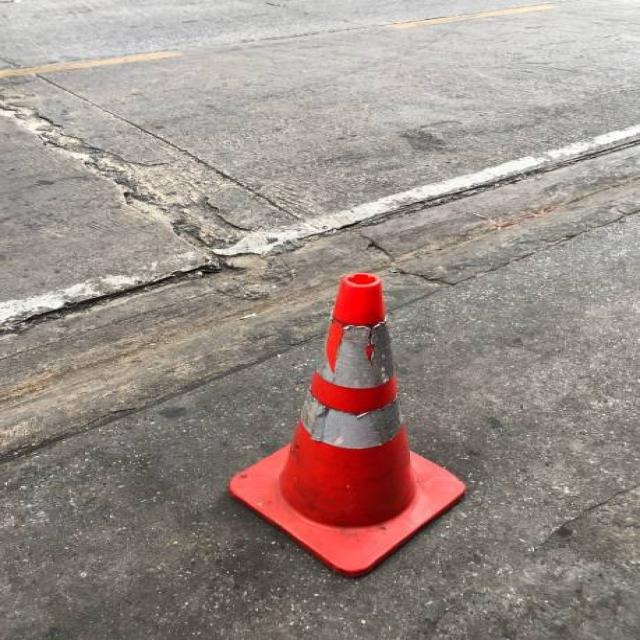Traffic Cone: (202, 202, 509, 584)
